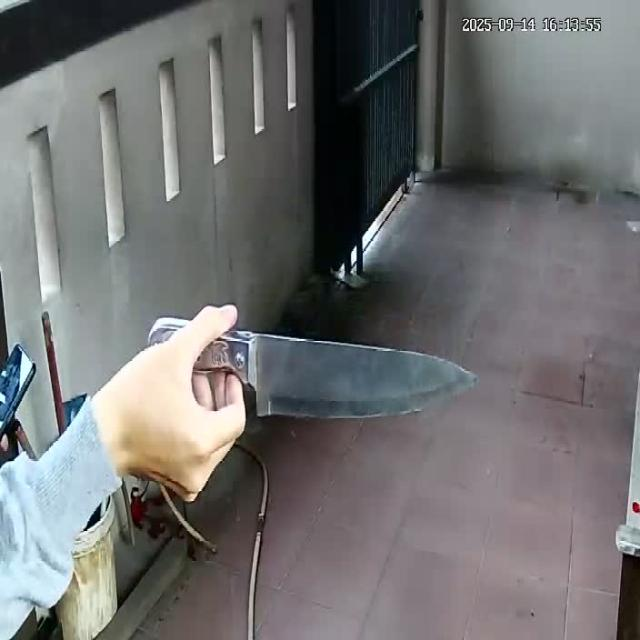senjata_tajam: (241, 331, 481, 423)
